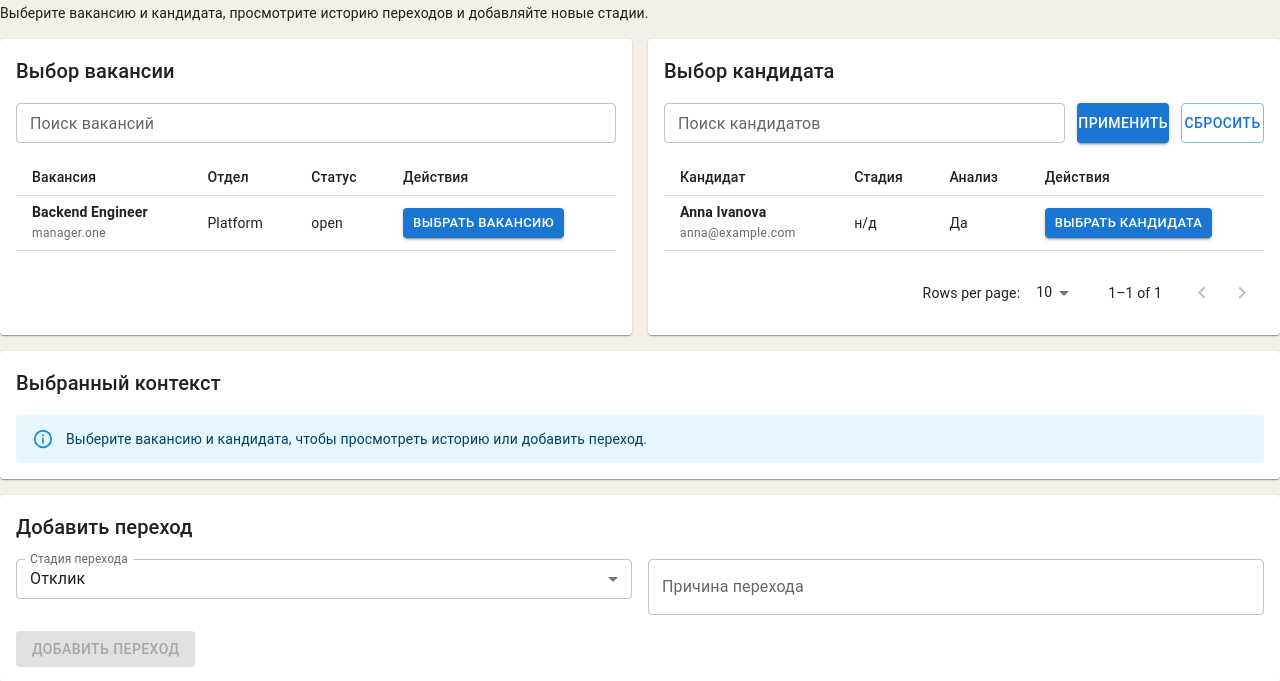
AdminPipelinePage › appends a pipeline transition for the selected vacancy and candidate
The width and height of the screenshot is (1280, 681).
Click the button "Выбрать вакансию". click: click(484, 223)
box: [403,208,564,238]
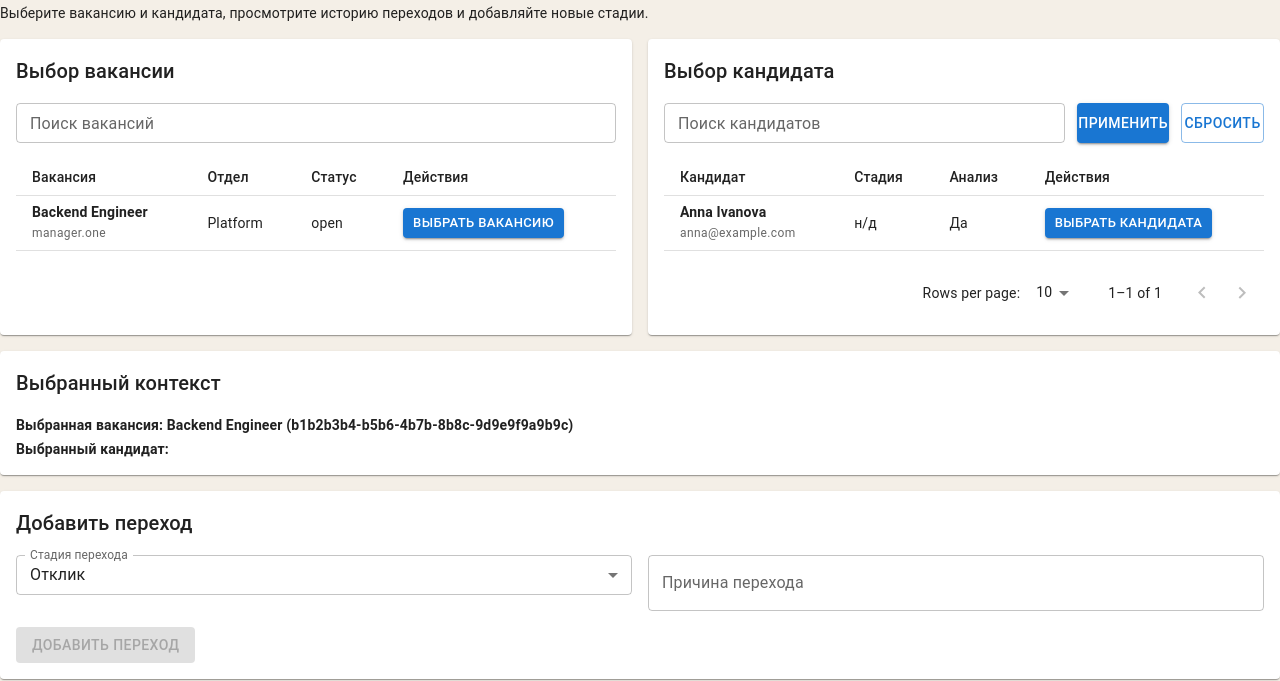
Click the button "Выбрать кандидата". click: click(1128, 223)
box: [1045,208,1212,238]
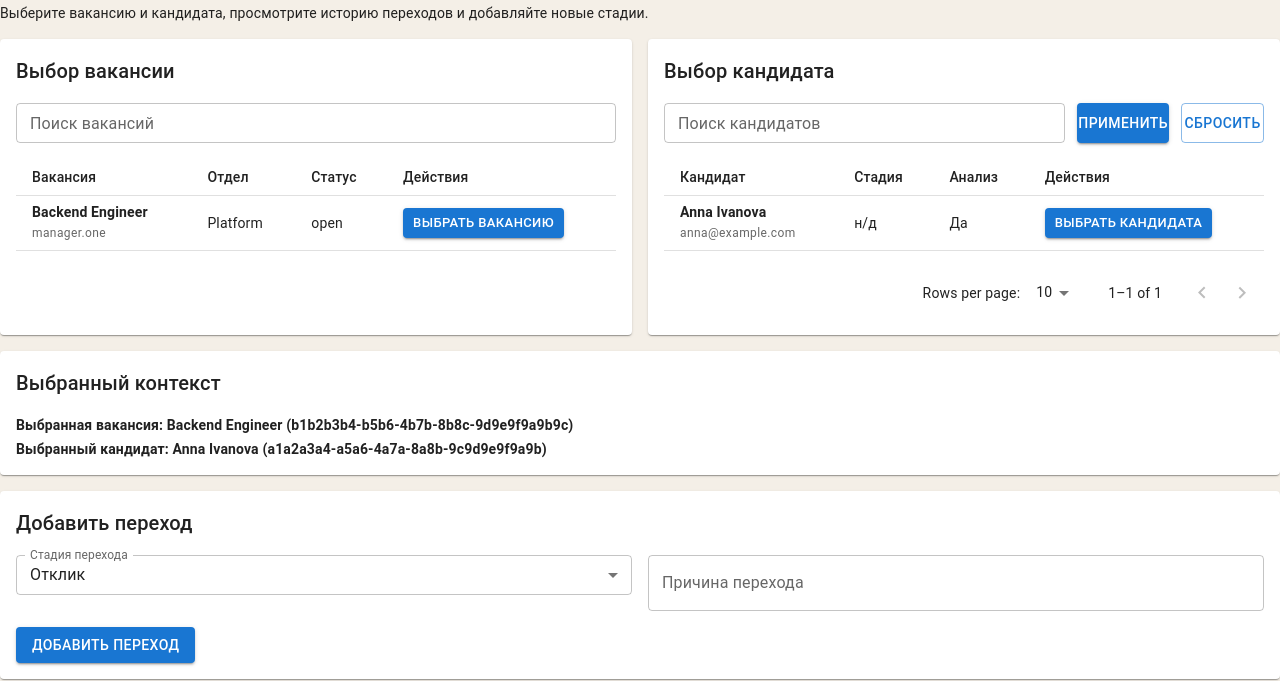
Type "Initial triage" into the field labelled "Причина перехода". click: (956, 583)
box: [648,555,1264,611]
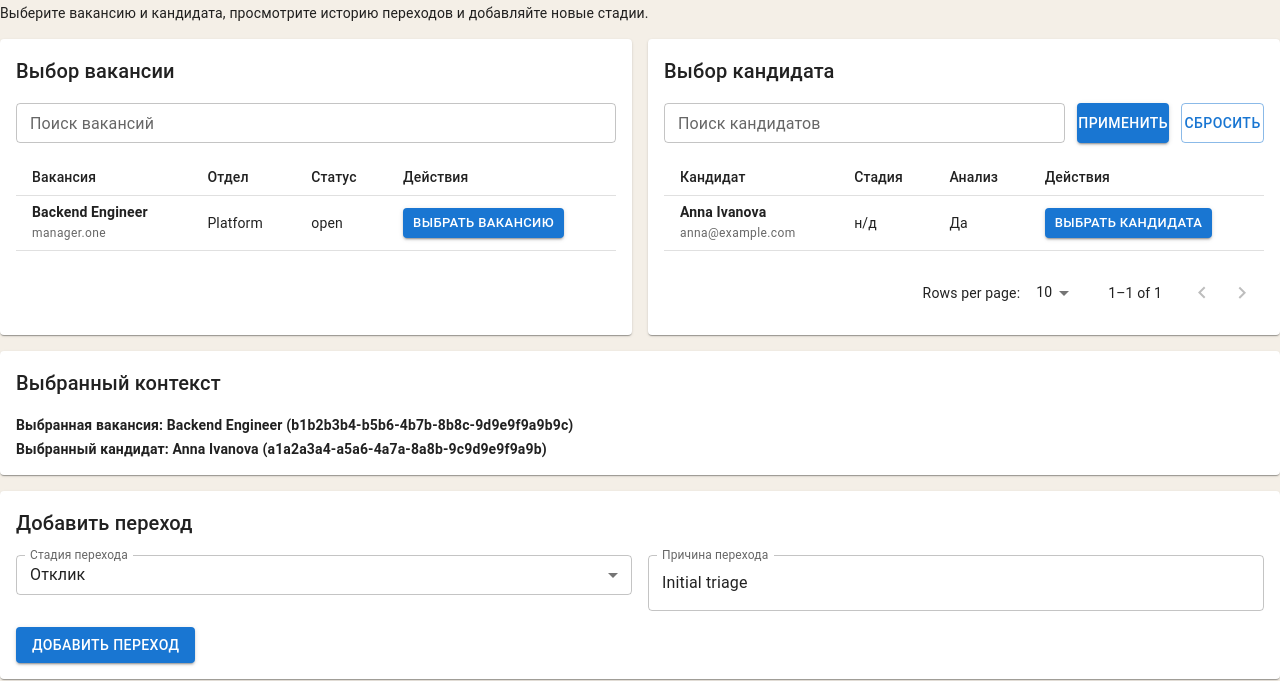
Click the button "Добавить переход". click: click(106, 645)
box: [16,627,195,664]
(page scrolled)
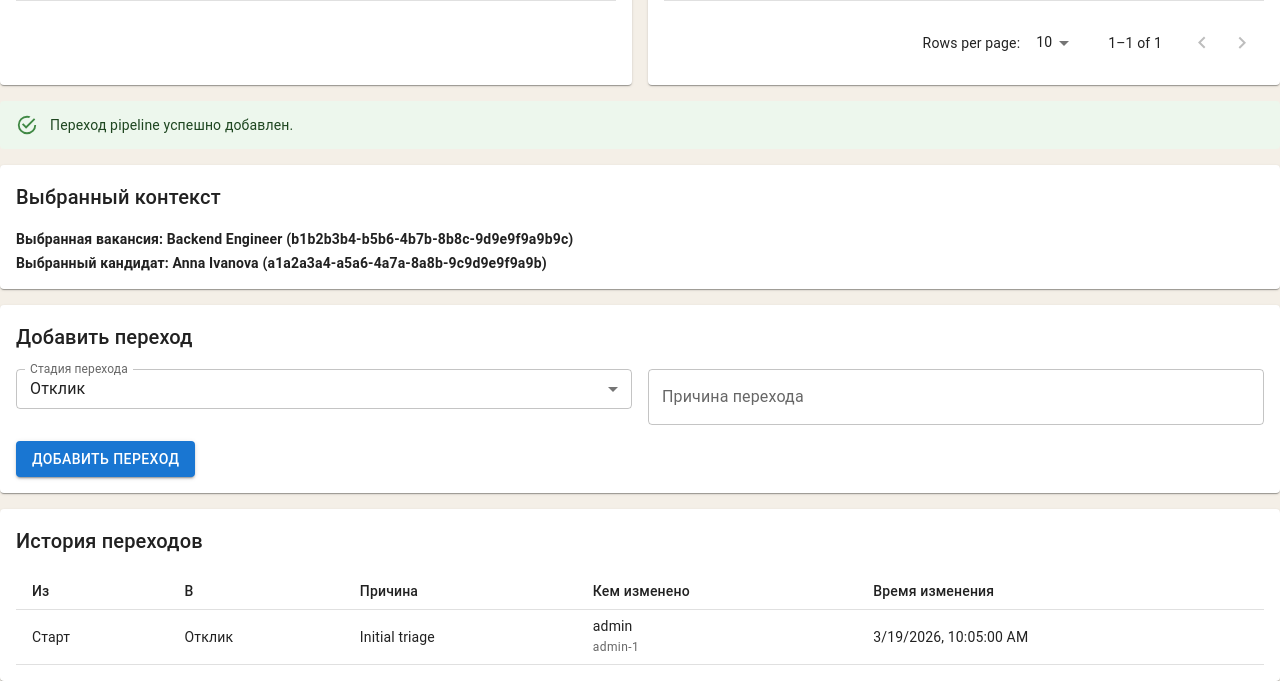
Expected: the text "Переход pipeline успешно добавлен." is shown, [50,117,293,133]
Expected: the text "Initial triage" is shown, [344,610,577,665]
